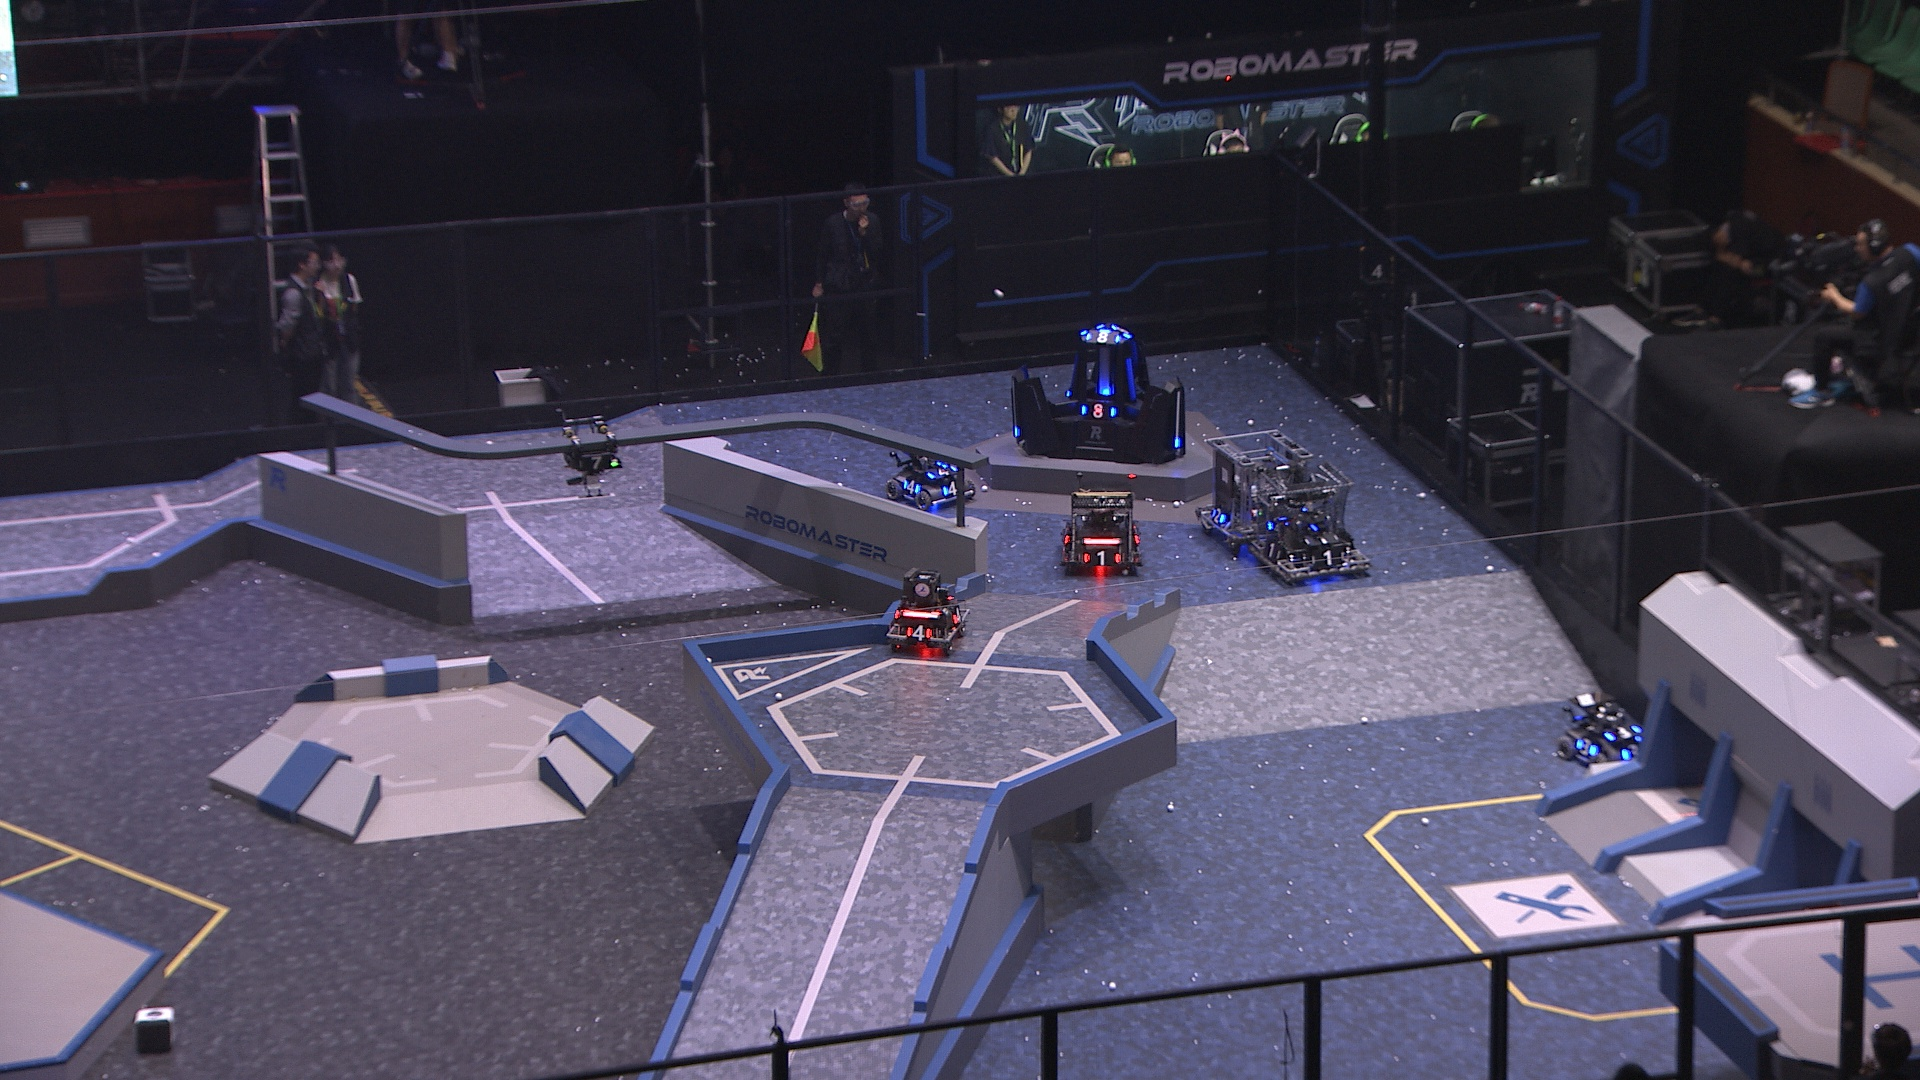armor: (1077, 549, 1122, 571), (576, 451, 618, 472), (1077, 401, 1120, 422), (1307, 546, 1346, 568), (1604, 723, 1643, 744), (922, 458, 957, 480), (902, 622, 936, 645), (1302, 531, 1344, 549), (1124, 356, 1139, 400), (1618, 741, 1648, 764), (1575, 736, 1602, 760), (1207, 502, 1232, 527), (1259, 537, 1283, 560), (1087, 328, 1122, 344), (940, 479, 960, 498), (1059, 522, 1076, 545), (948, 603, 964, 626), (903, 479, 924, 495), (1168, 434, 1182, 454), (1007, 425, 1021, 439), (1098, 384, 1109, 396)
base: (1007, 320, 1188, 462)
car: (1249, 454, 1379, 589), (1193, 429, 1313, 550), (1553, 692, 1660, 777), (880, 564, 973, 654), (1058, 488, 1145, 578), (880, 436, 973, 505)
watcher: (553, 413, 618, 498)
